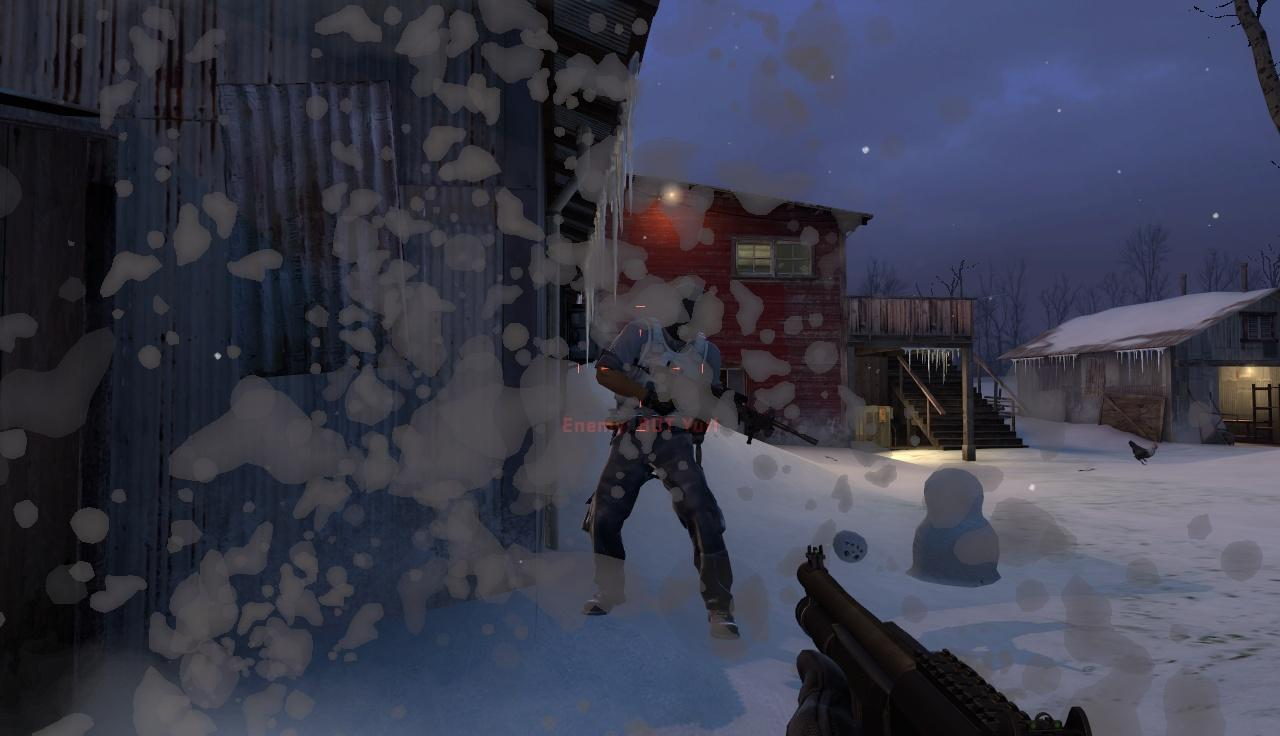shotgun: (779, 532, 1106, 736)
tt: (612, 292, 731, 631)
tthead: (655, 291, 709, 352)
